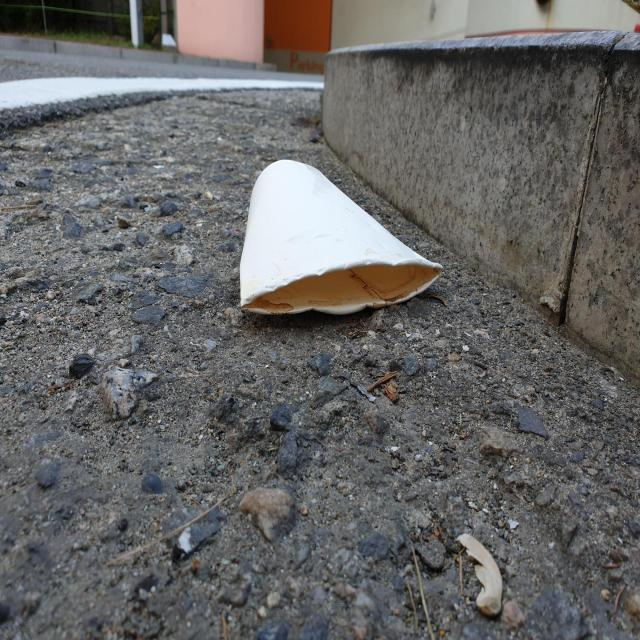paperpack: (240, 159, 443, 314)
